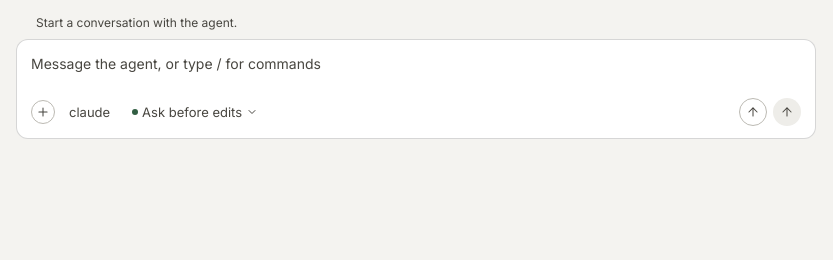
it: AgentChatSurface › reverts the chip to the manifest mode when sessionSetMode rejects
What coordinates should you click on to do the following:
click the button with test id "mode-chip"
I would click on:
 (195, 112)
Its box is 124,96 -> 266,128.
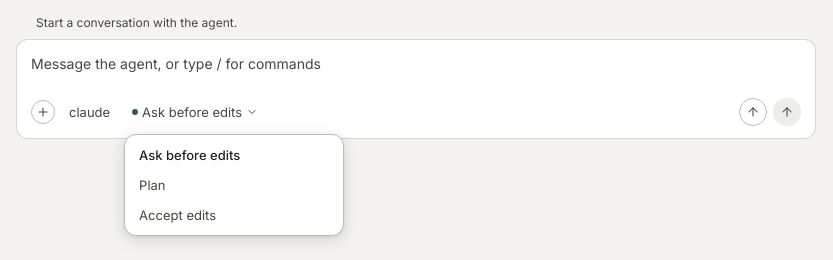
What coordinates should you click on to do the following:
click the option with test id "mode-option-plan"
I would click on:
 (234, 185)
Its box is 131,171 -> 337,199.
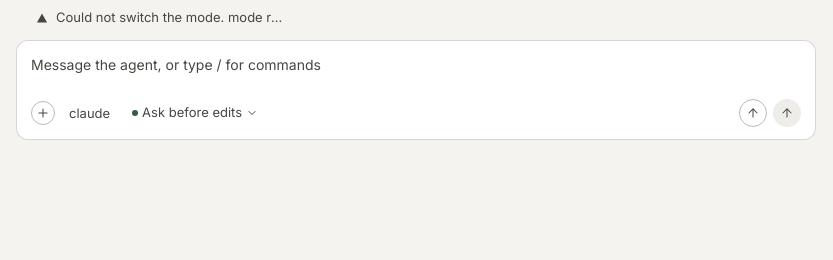
expect the button with test id "mode-chip" reads "Ask before edits": met, box 124,97 -> 266,129
expect the message "Could not switch the mode. mode refused" is shown: met, box 36,9 -> 314,25
